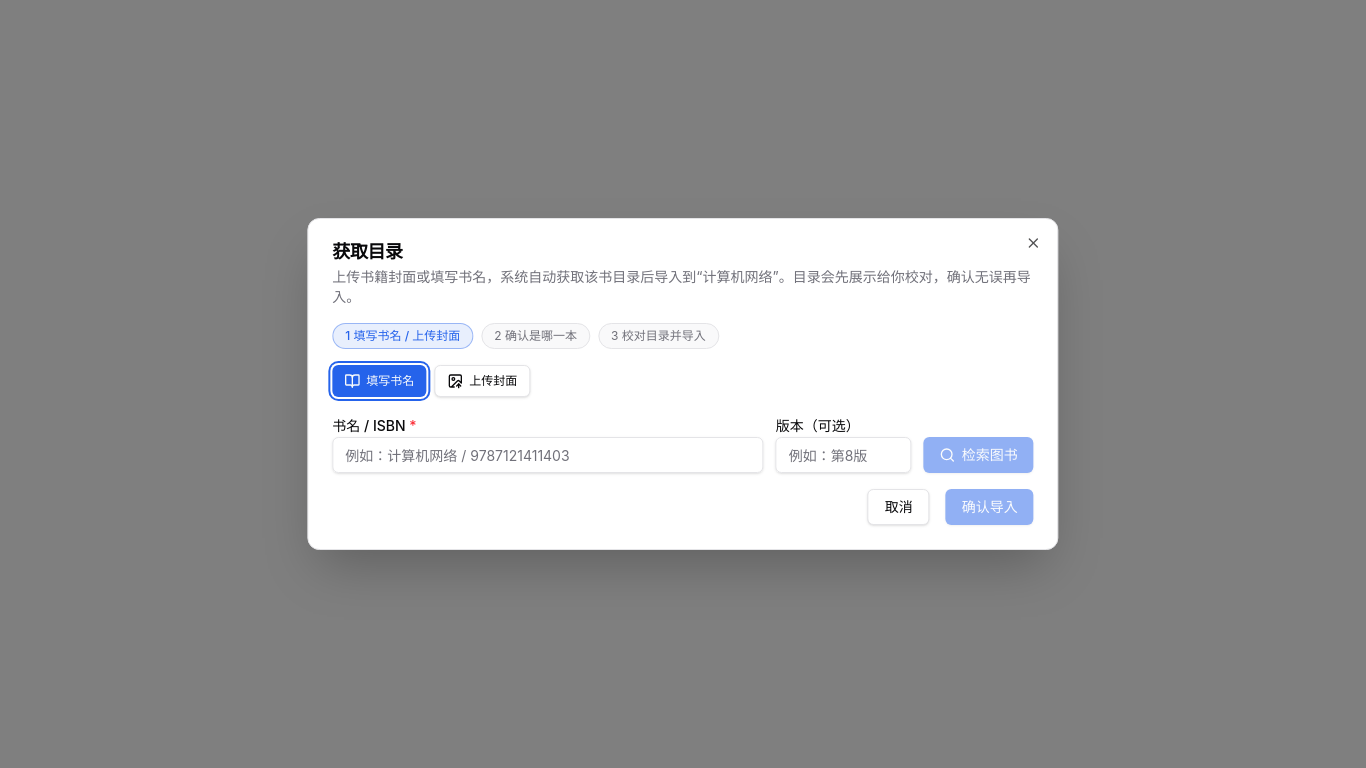
Test case: KnowledgeCatalogWebDialog › surfaces a fetch failure and stays on the pick step
The image size is (1366, 768).
In the field labelled "书名 / ISBN *": [548, 455] box [332,437,764,473], type "计算机网络"
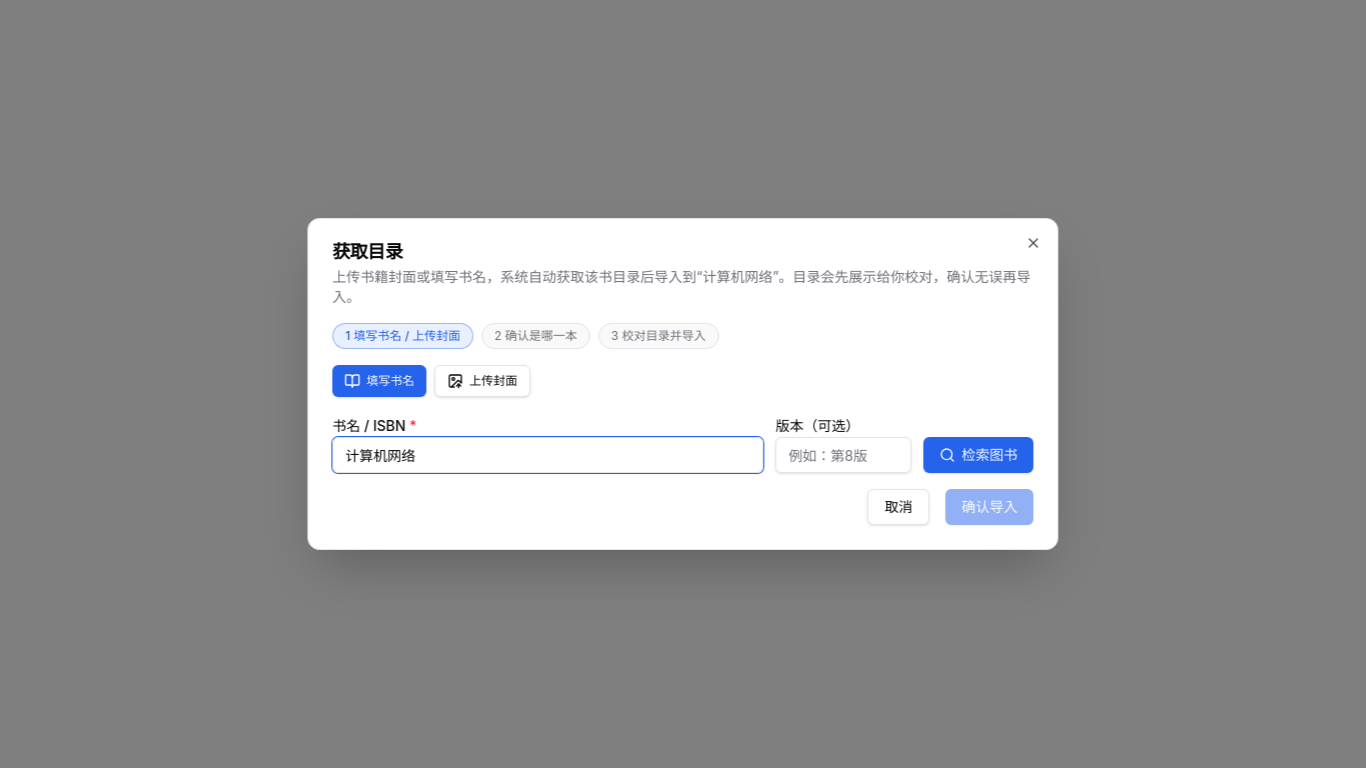
Click the button "检索图书": [979, 455] box [924,437,1034,473]
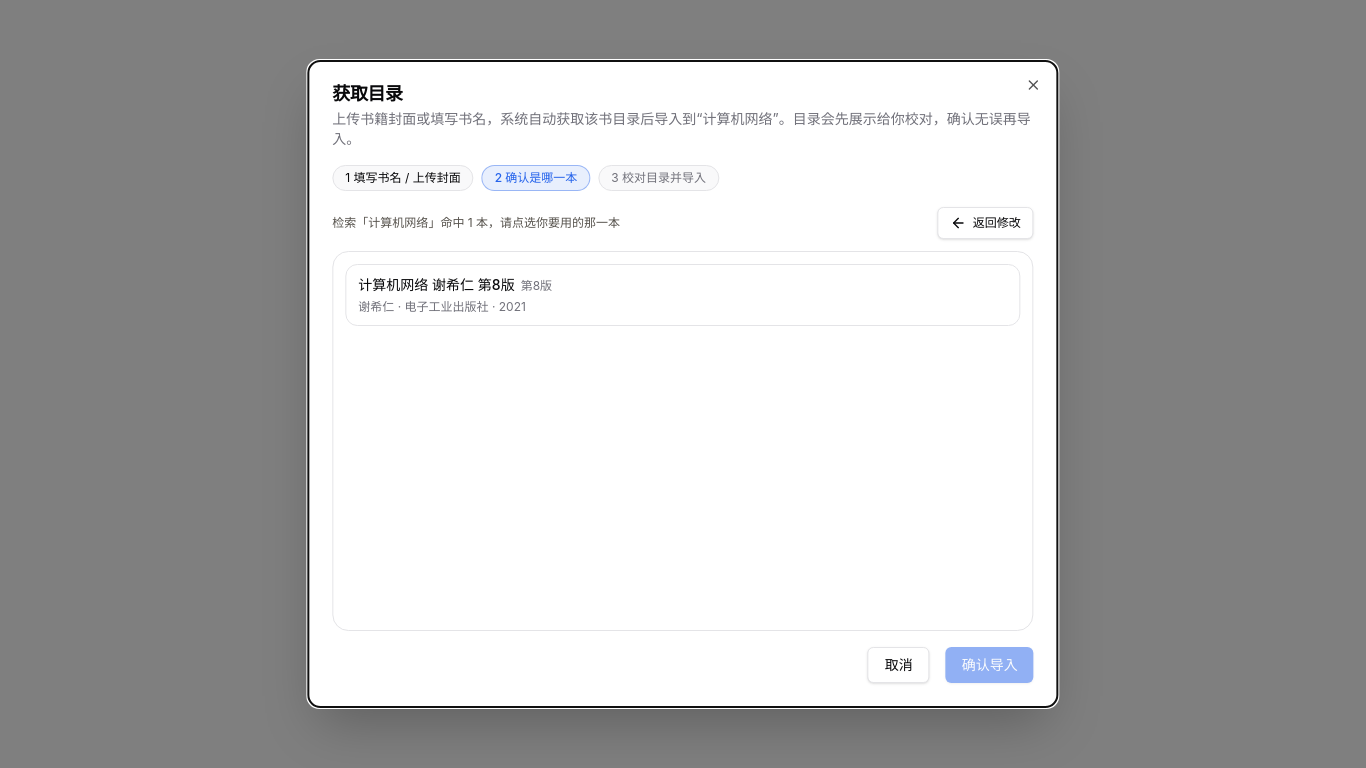
Click the button "计算机网络 谢希仁 第8版": [436, 284] box [345,264,1021,326]
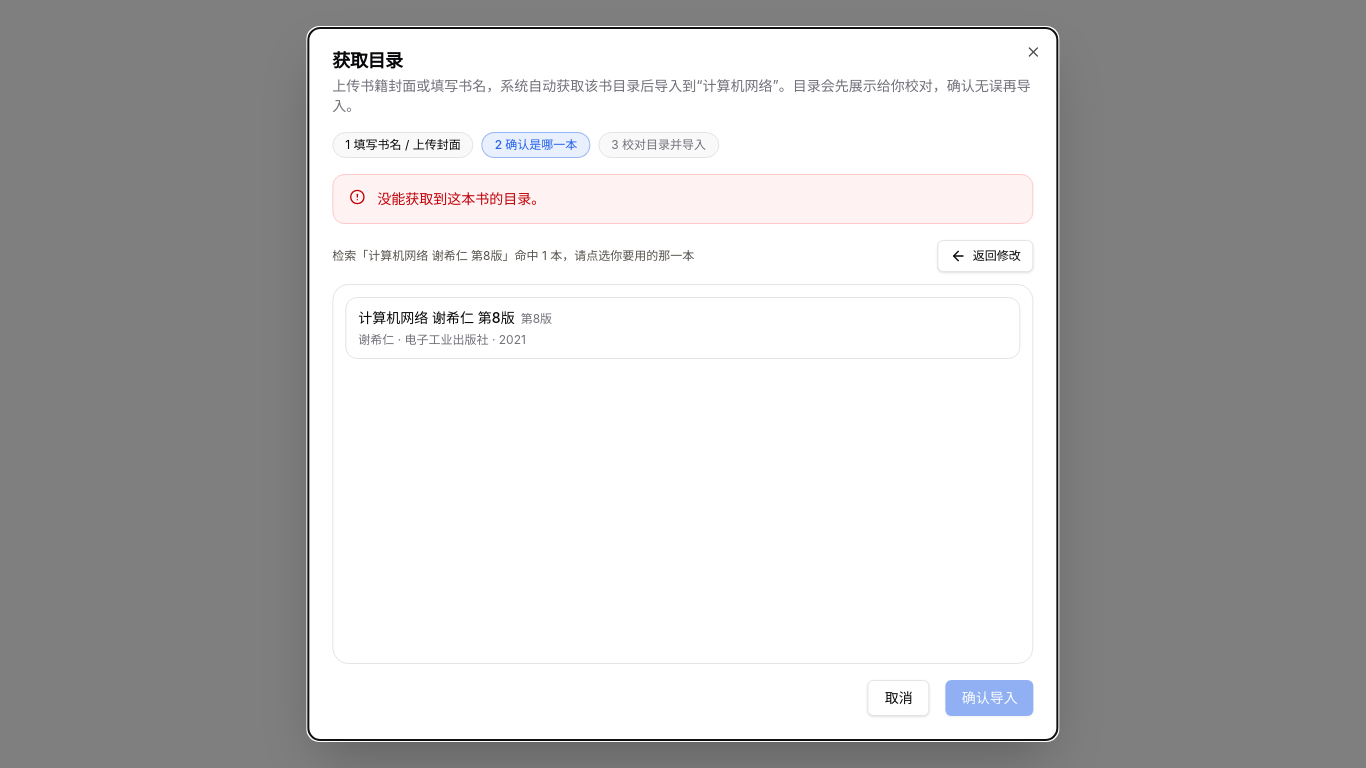
Expected: the button "确认导入" is disabled, [946,680,1034,716]
Expected: the text "没能获取到这本书的目录。" is shown, [377,187,545,211]
